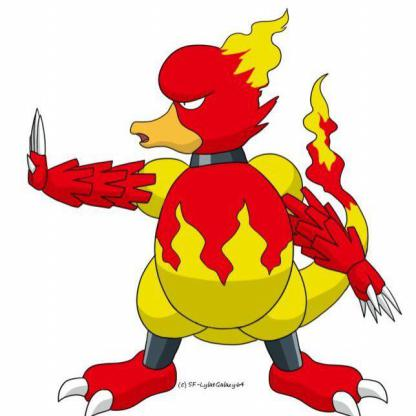Magmar: (4, 1, 416, 416)
